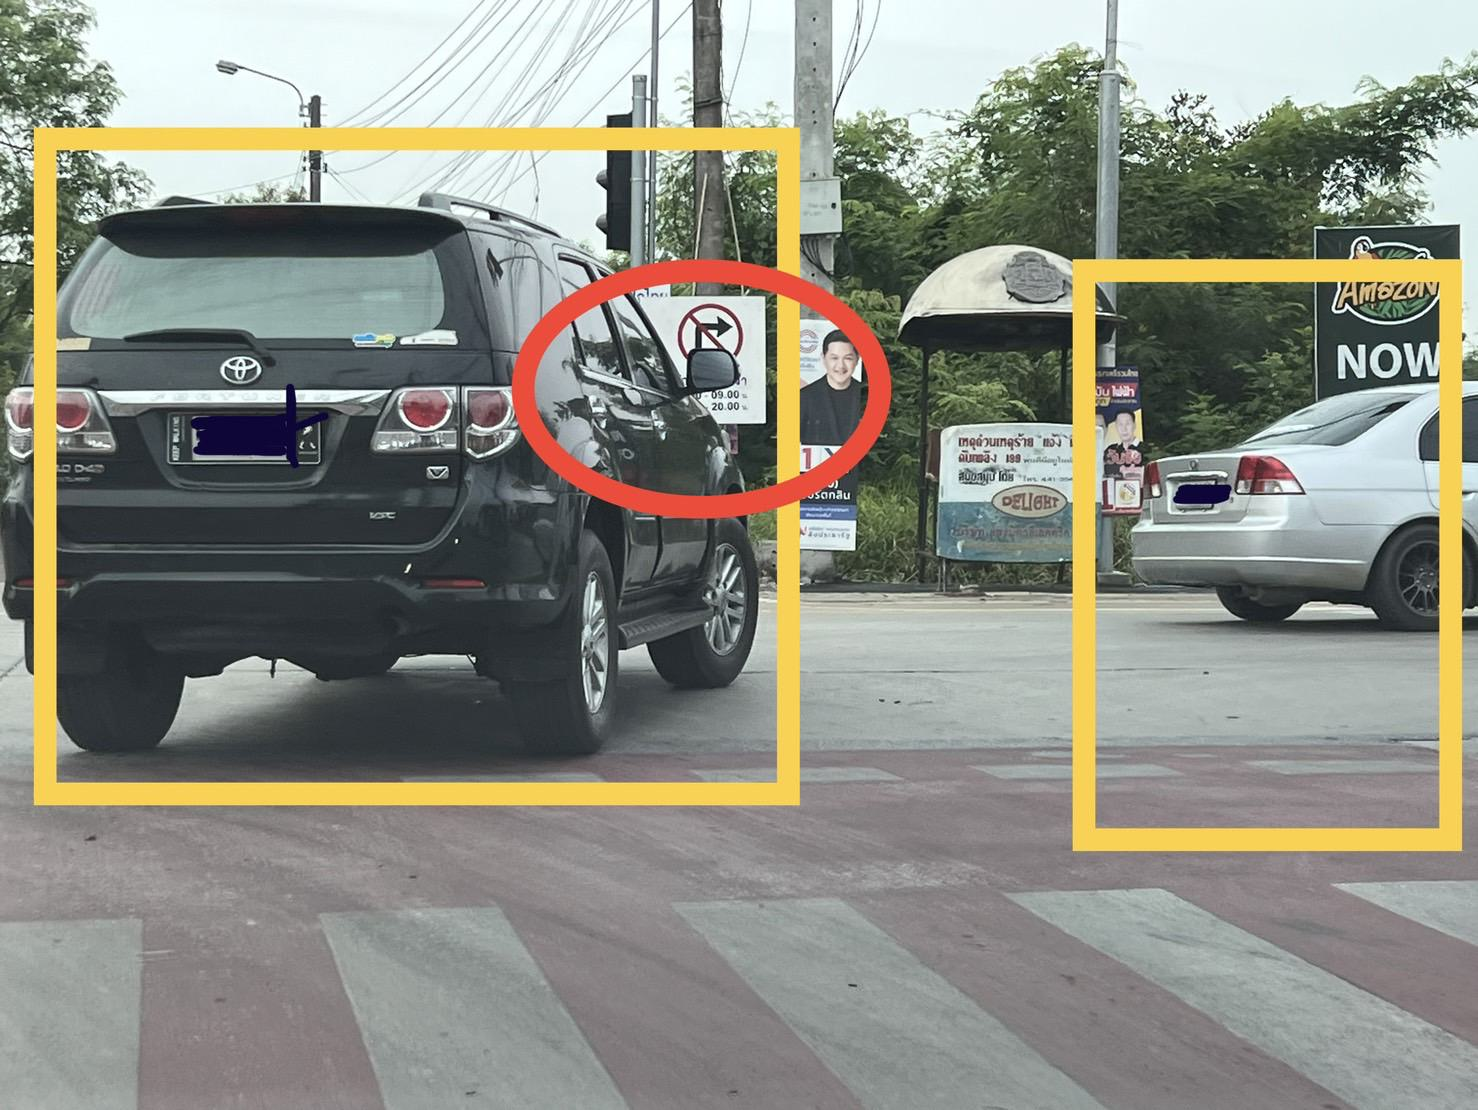Banner: (777, 311, 877, 552), (1082, 370, 1155, 518)
